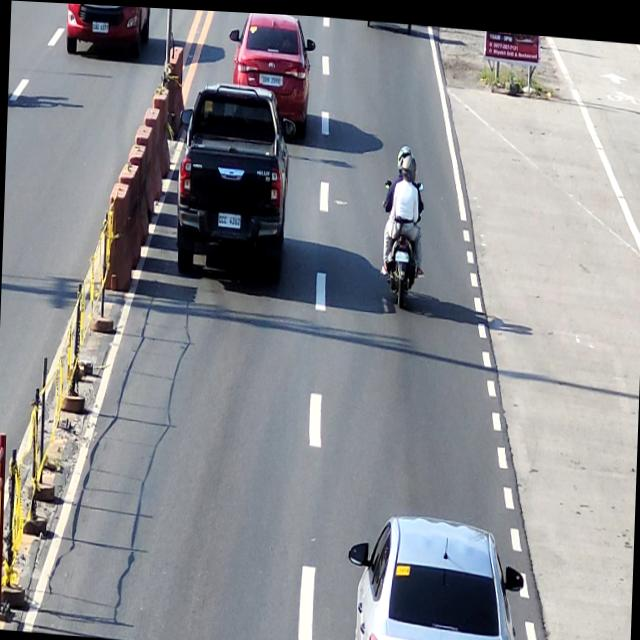Car: (175, 76, 296, 283), (345, 505, 525, 640), (226, 9, 317, 136), (65, 3, 150, 60)
License-Plate: (218, 209, 241, 226), (262, 70, 281, 84), (92, 21, 108, 31), (395, 246, 409, 257)
Motorcycle: (381, 176, 423, 305)
